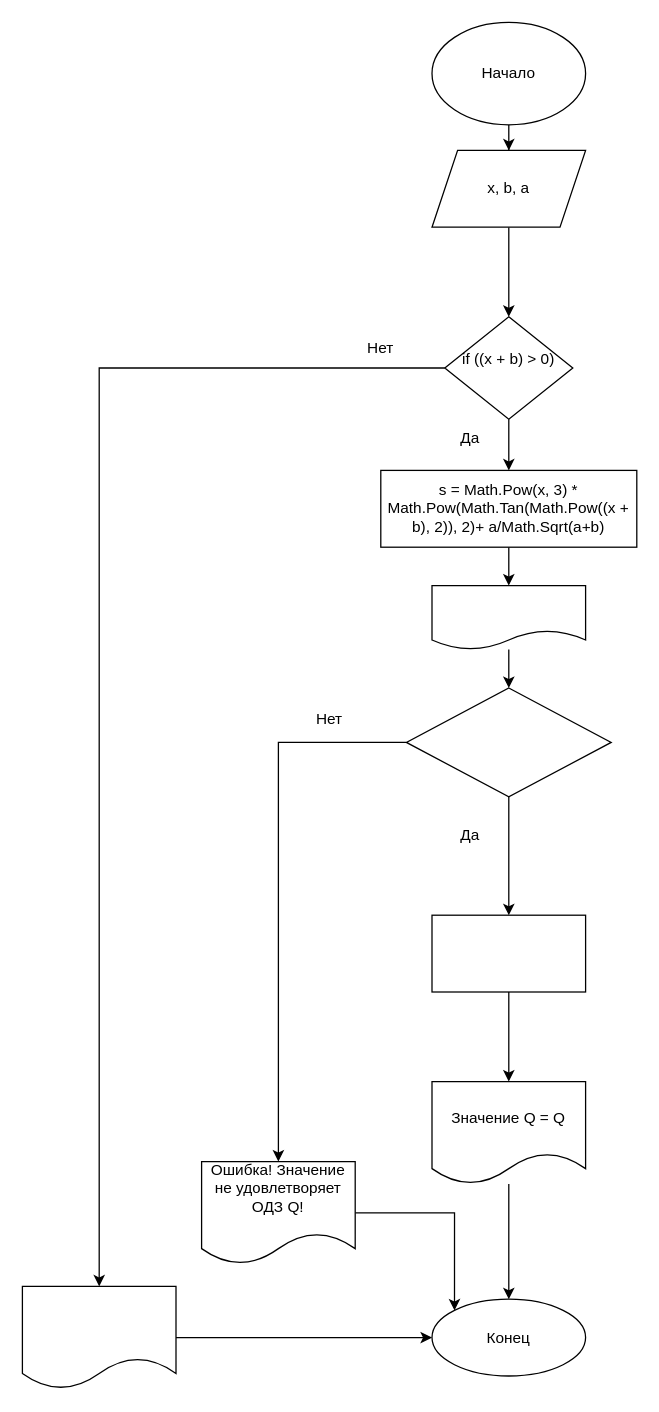
The diagram is 659 pixels wide and 1412 high, and some of its shapes have lost their labels. Each missing label, with the centre of its shape:
"if ( Math . Pow ( e , a * x ) != 1 )" belongs at (x=508, y=742).
"Q = ( b * Math . Pow ( x , 2 ) - a ) / Math . Pow ( e , a * x ) - 1" belongs at (x=508, y=953).
"Значение s = s" belongs at (x=508, y=617).
"Ошибка! Значение не удовлетворяет ОДЗ s!" belongs at (x=98, y=1337).
